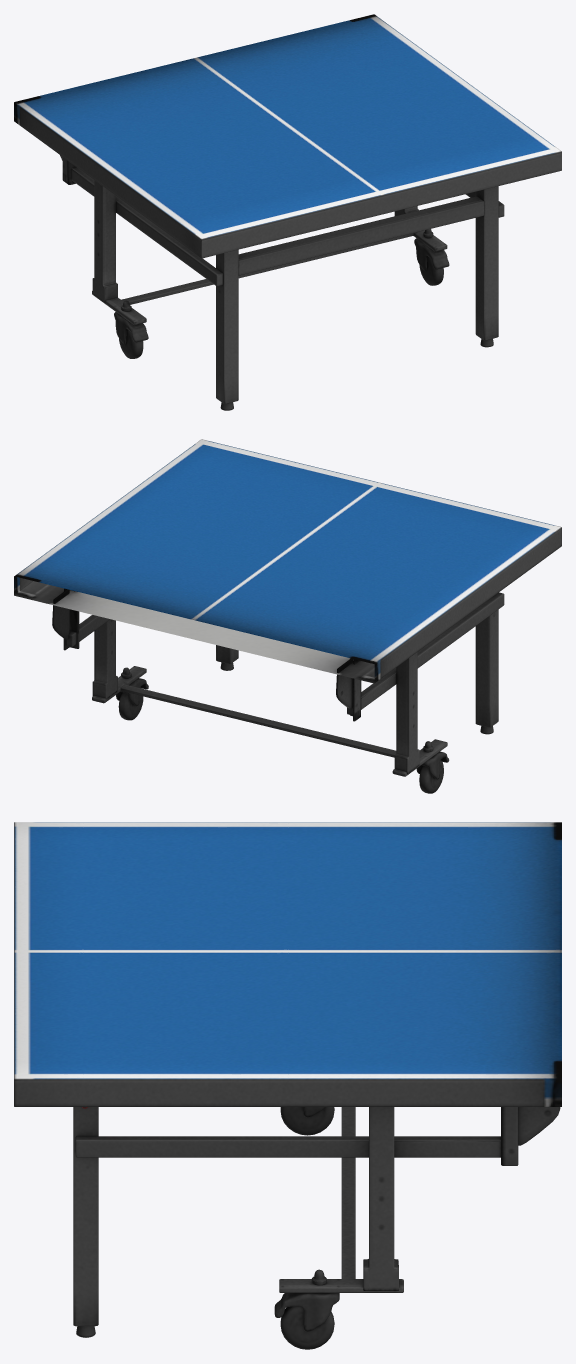
The model's file is halftable.glb.
3 renders of one model, top to bottom at view 1: azimuth 30°, elevation 25°; view 2: azimuth 150°, elevation 25°; view 3: azimuth 270°, elevation 25°, orthographic. The views are drawn at different scales.
Parts seen in each view (by area): view 1: Half; view 2: Half; view 3: Half.
Boxes of the visible parts, box(x1,y1,x2,y2) form: Half: box(14, 14, 561, 410); Half: box(14, 439, 561, 793); Half: box(14, 822, 561, 1349).
Bounding box in the file's own units: 153 × 80.92 × 138.
Materials: 1 (1 with a texture image).
